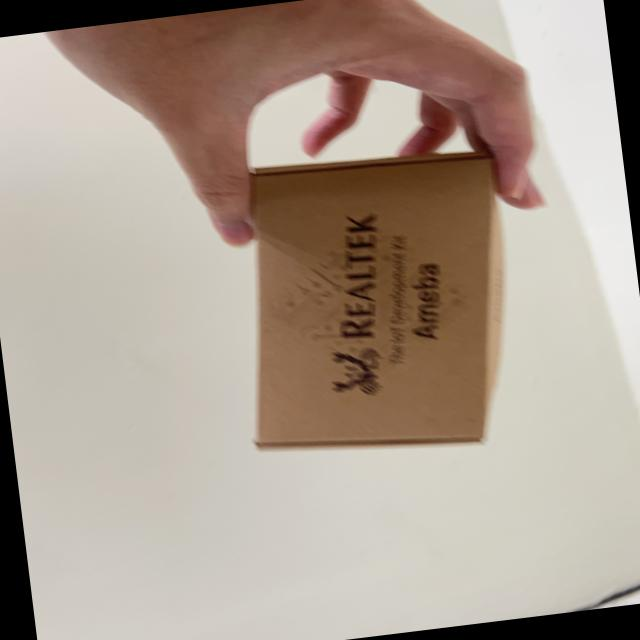box: (223, 116, 550, 478)
